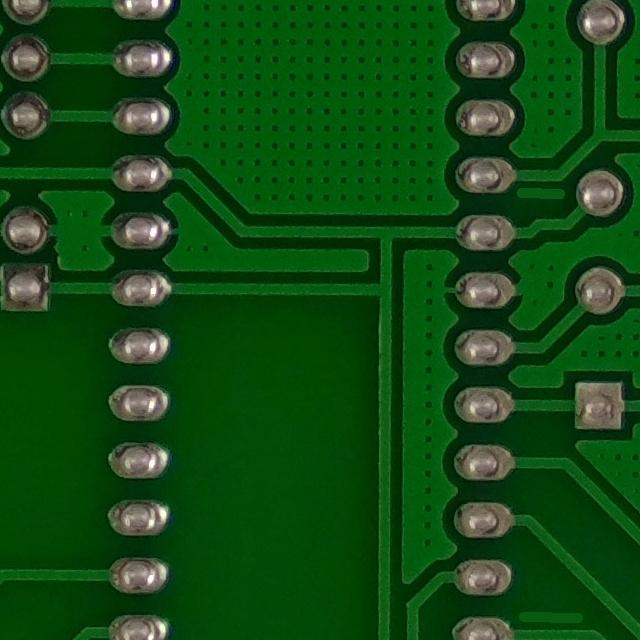spurious_copper: (514, 598, 592, 628), (514, 184, 570, 209)
